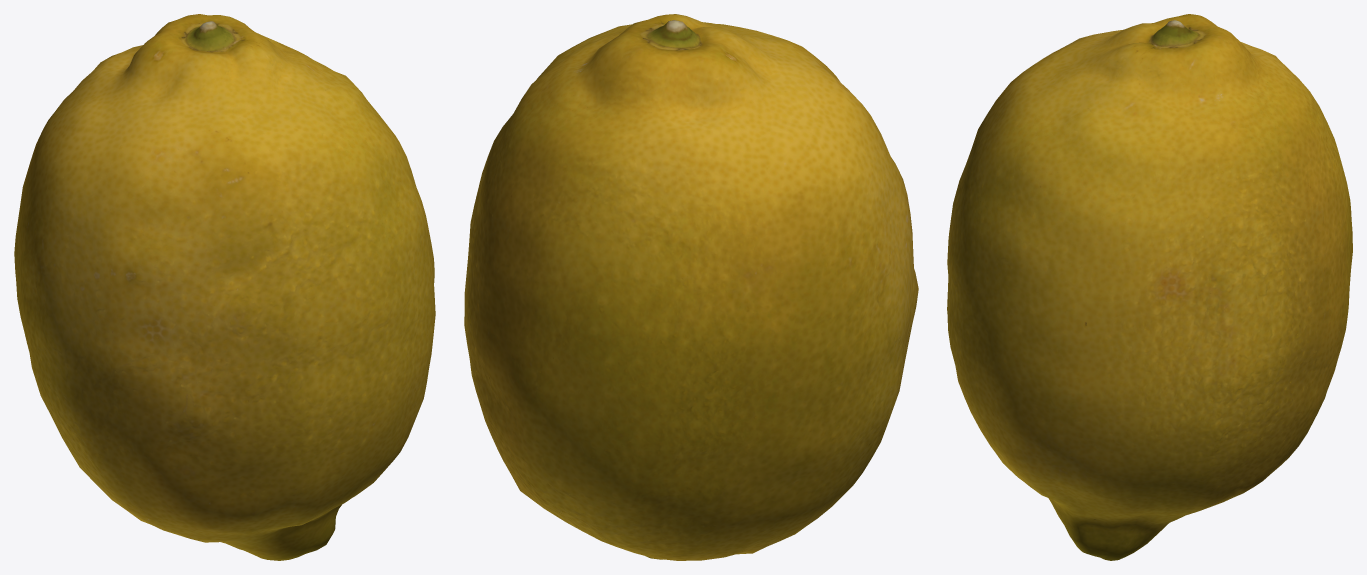
The model's file is Lemon.obj.
3 renders of one model, left to right at view 1: azimuth 30°, elevation 25°; view 2: azimuth 150°, elevation 25°; view 3: azimuth 270°, elevation 25°, orthographic. The views are drawn at different scales.
Visible parts, largest first — view 1: lemon; view 2: lemon; view 3: lemon.
Part boxes in pixels (<box>): lemon: <box>14,14,435,560</box>; lemon: <box>464,14,918,560</box>; lemon: <box>947,14,1352,560</box>.
Bounding box in the file's own units: 0.0687 × 0.0954 × 0.0683.
